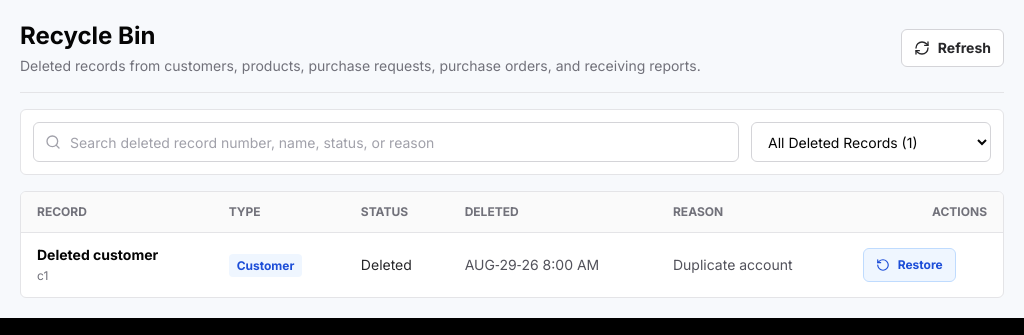
restores a soft-deleted record and reloads the bin
The width and height of the screenshot is (1024, 335).
expect the text "Deleted customer" is shown: met, box [37,246,158,263]
Step 1. Click the button "Restore" → x=909, y=265, box [863,248,956,282]
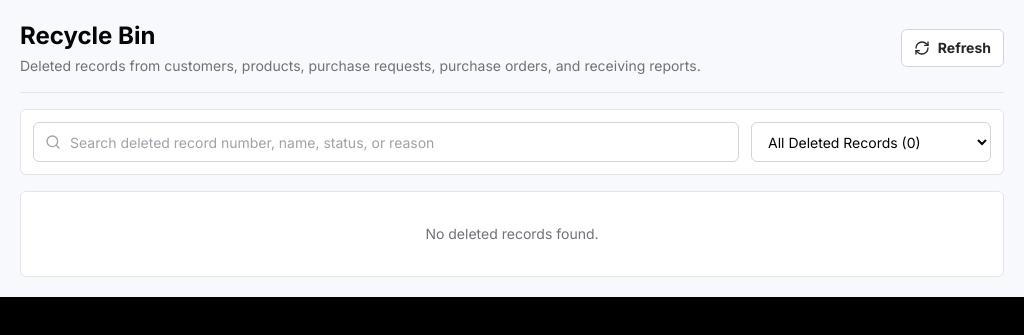
expect the text "No deleted records found." is shown: met, box [20,191,1004,277]
